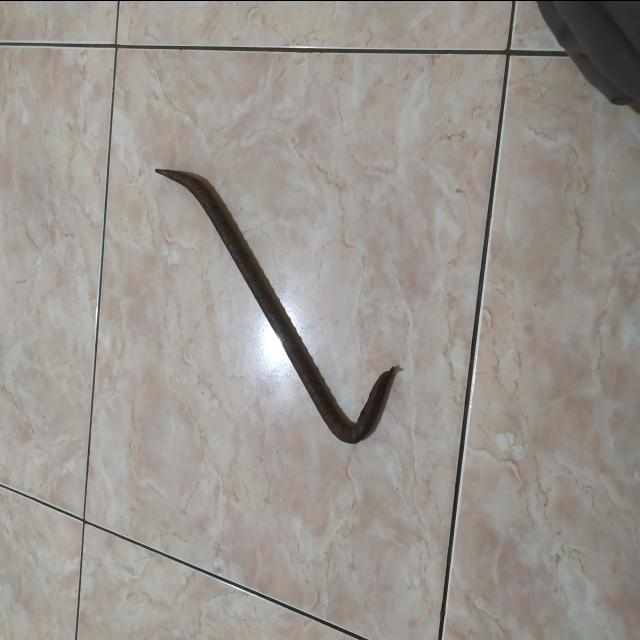Linggis: (155, 165, 400, 443)
